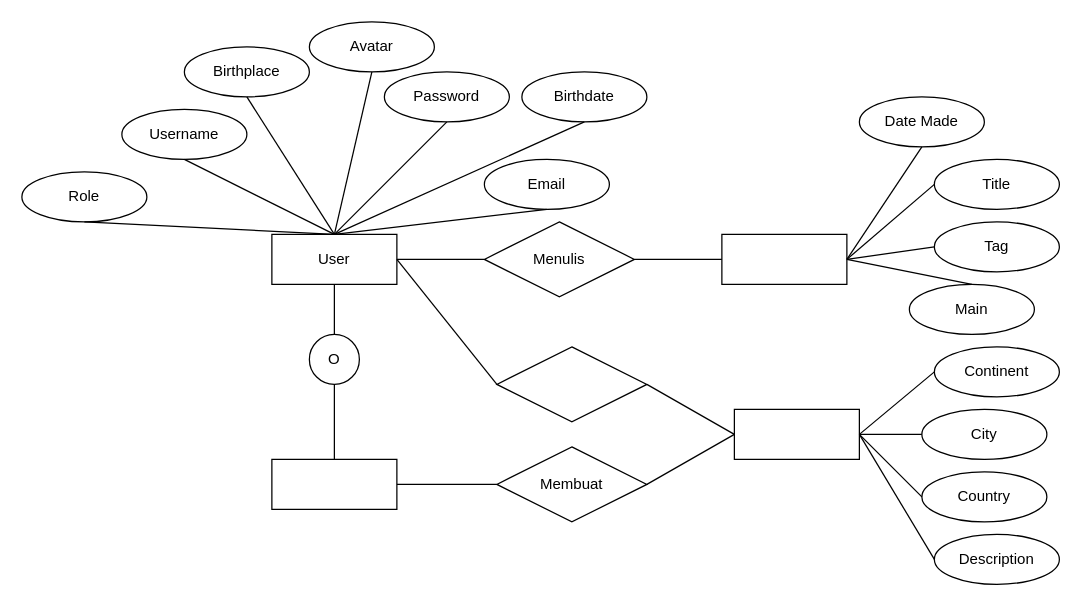
Some shapes in this 1081 by 606 pixel diagram are drawn without their labels. Each missing label, with the centre of its shape:
Admin: point (334, 483)
Journal: point (784, 258)
Melihat: point (571, 384)
Postcard: point (796, 433)
